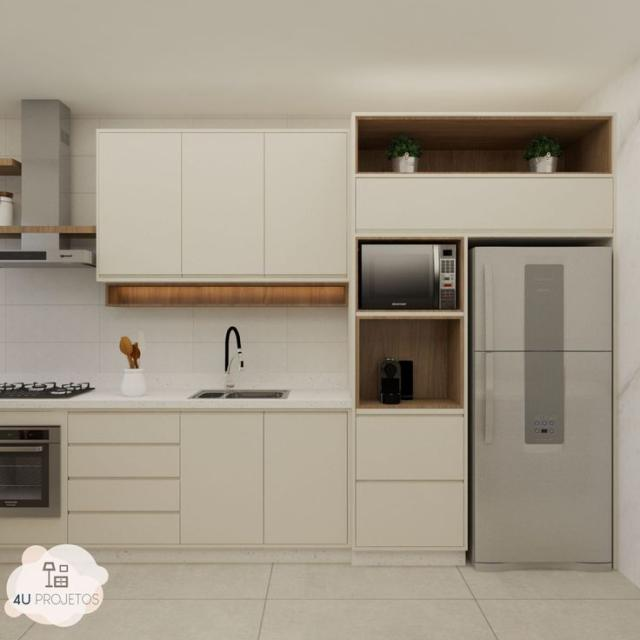obstacle: (70, 409, 466, 558), (468, 244, 614, 572), (96, 125, 347, 278)
